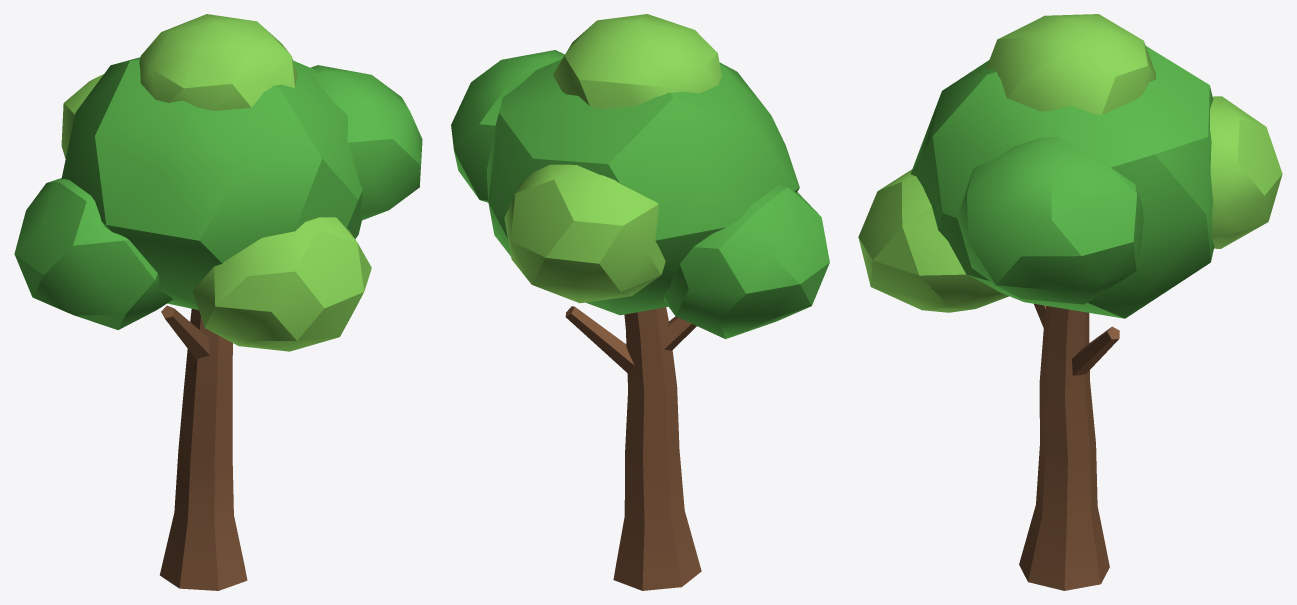
Rendered from RoundTree.fbx.
3 views of the same model, side by side, from view 1: azimuth 30°, elevation 25°; view 2: azimuth 150°, elevation 25°; view 3: azimuth 270°, elevation 25° (orthographic). The views are drawn at different scales.
Visible parts, largest first — view 1: RoundTree_Leaf, RoundTree_LeafLight, RoundTree_Bark; view 2: RoundTree_Leaf, RoundTree_LeafLight, RoundTree_Bark; view 3: RoundTree_Leaf, RoundTree_LeafLight, RoundTree_Bark.
Boxes of the visible parts, x1=… form: RoundTree_Leaf: x1=14, y1=57, x2=422, y2=329; RoundTree_LeafLight: x1=61, y1=14, x2=371, y2=351; RoundTree_Bark: x1=160, y1=305, x2=247, y2=590; RoundTree_Leaf: x1=451, y1=50, x2=829, y2=339; RoundTree_LeafLight: x1=504, y1=14, x2=721, y2=303; RoundTree_Bark: x1=565, y1=306, x2=701, y2=590; RoundTree_Leaf: x1=910, y1=46, x2=1214, y2=318; RoundTree_LeafLight: x1=858, y1=14, x2=1282, y2=312; RoundTree_Bark: x1=1019, y1=304, x2=1119, y2=590.
Size of the model in its own units: 684 by 983 by 675.
